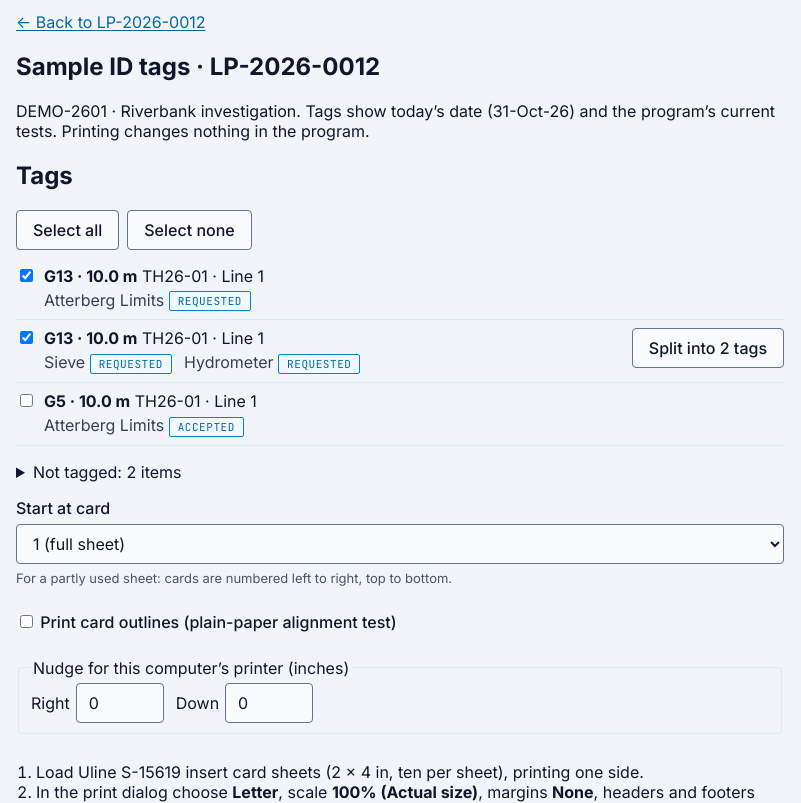
Scenario: sample ID tags (MM-T69) › selects tags with work still to do and lists what gets no tag
The image size is (801, 803).
Check: the heading "Sample ID tags · LP-2026-0012" is shown, box [16,52,380,81]
Click the heading "Not tagged: 2 items".
click(107, 472)  # box [33,462,182,482]
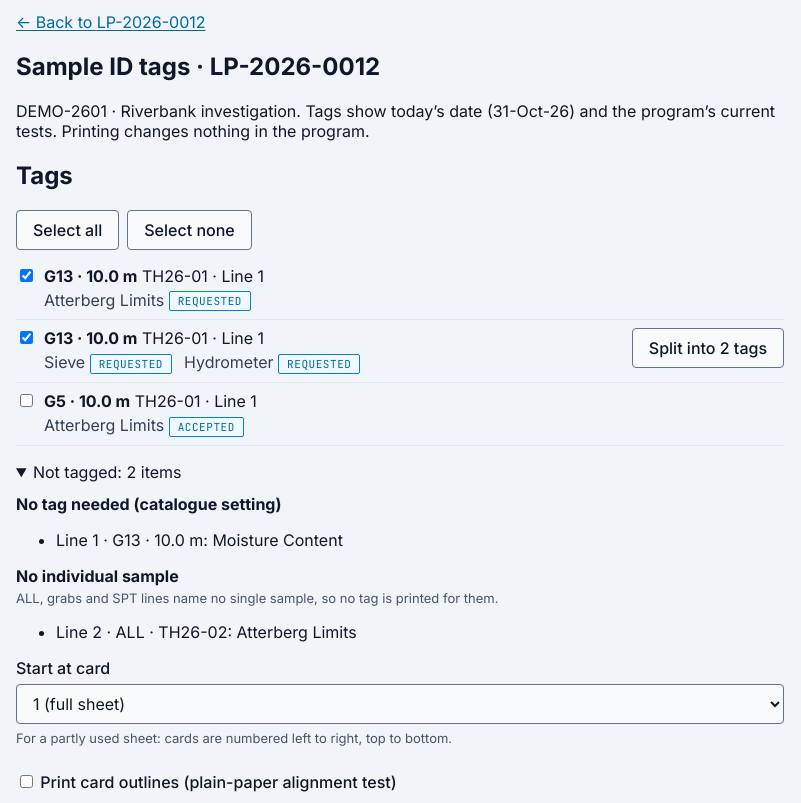
Check: the list item "Line 1 · G13 · 10.0 m: Moisture Content" is shown, box [56,530,343,550]
Check: the list item "Line 2 · ALL · TH26-02: Atterberg Limits" is shown, box [56,622,357,642]
